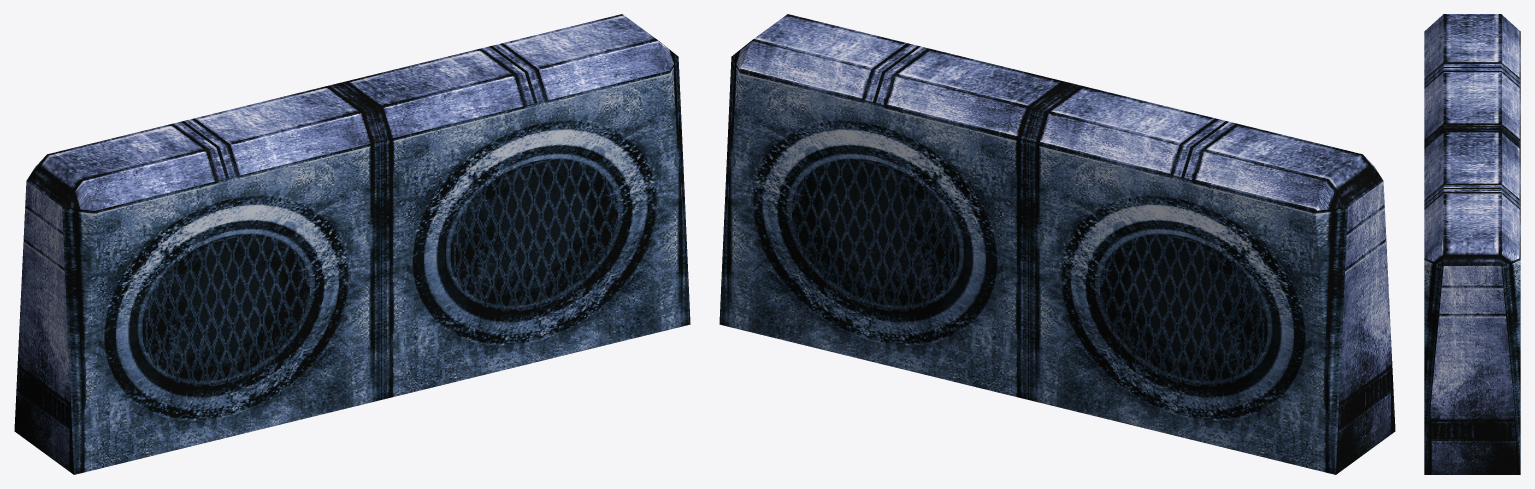
File: AC Exaust.fbx
3 renders of one model, left to right at view 1: azimuth 30°, elevation 25°; view 2: azimuth 150°, elevation 25°; view 3: azimuth 270°, elevation 25°, orthographic. The views are drawn at different scales.
Visible parts, largest first — view 1: object_0; view 2: object_0; view 3: object_0.
Part boxes in pixels (left/top/right/bottom): object_0: left=14, top=14, right=690, bottom=474; object_0: left=719, top=14, right=1395, bottom=474; object_0: left=1424, top=14, right=1520, bottom=474.
Size of the model in its own units: 299 by 130 by 50.
